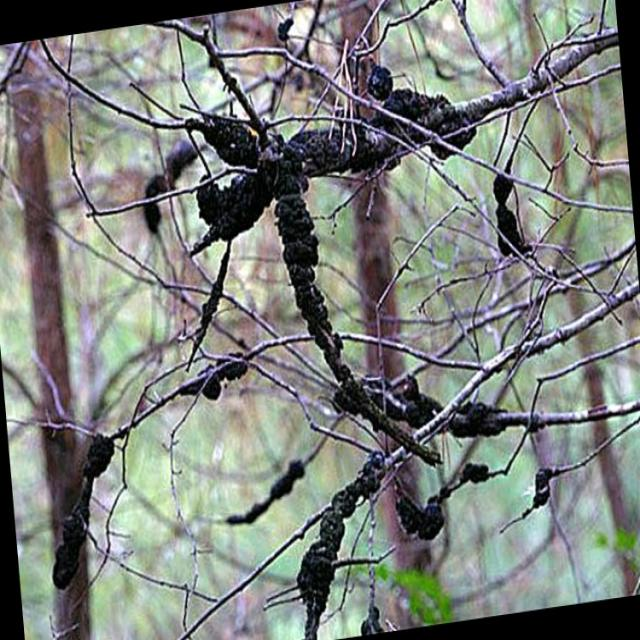Black_knot: (141, 101, 405, 252), (224, 448, 383, 634), (378, 365, 519, 445), (490, 152, 540, 269), (366, 62, 394, 101)
